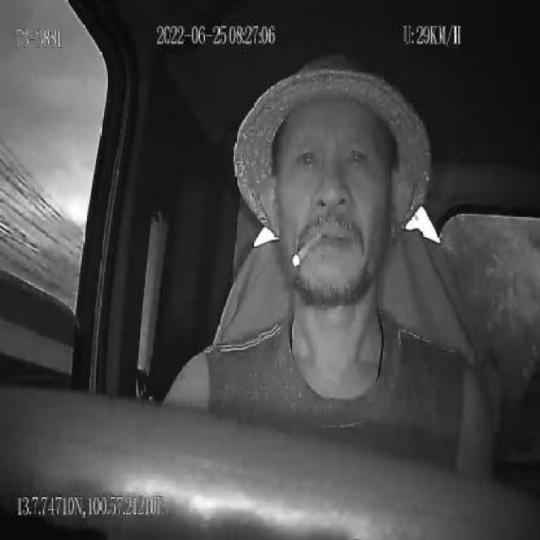smoking: (292, 232, 322, 270)
